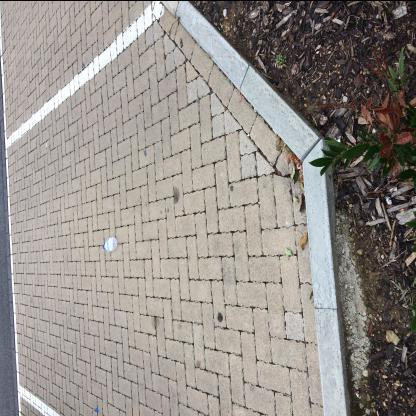plastik: (104, 236, 119, 252)
